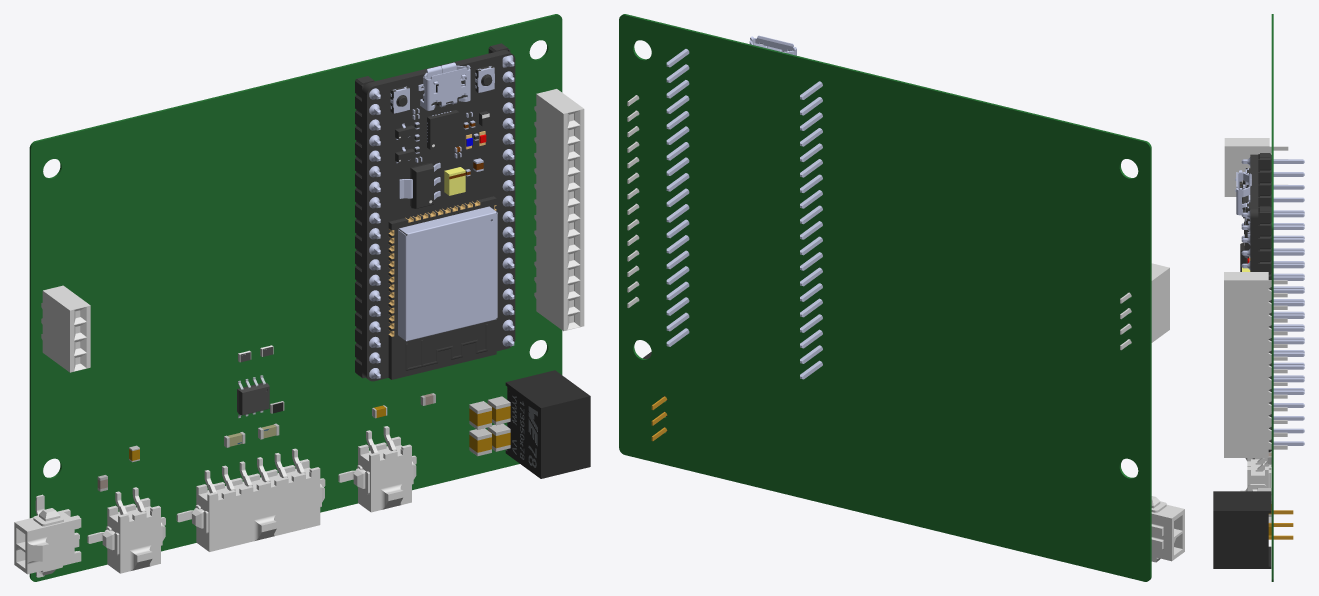
File: display.glb
The picture shows the model from 3 angles, left to right: view 1: azimuth 30°, elevation 25°; view 2: azimuth 150°, elevation 25°; view 3: azimuth 270°, elevation 25°; orthographic projection. The views are drawn at different scales.
Visible parts, largest first — view 1: =>[0:1:1:3], =>[0:1:1:33], =>[0:1:1:38], =>[0:1:1:31], =>[0:1:1:19] (×2), =>[0:1:1:46], =>[0:1:1:35], =>[0:1:1:40], =>[0:1:1:43]; view 2: =>[0:1:1:3], =>[0:1:1:33], =>[0:1:1:35], =>[0:1:1:40], =>[0:1:1:38]; view 3: =>[0:1:1:38], =>[0:1:1:33], =>[0:1:1:46], =>[0:1:1:3], =>[0:1:1:40], =>[0:1:1:19].
Boxes of the visible parts, x1,y1,x2,y2 form: =>[0:1:1:3]: (29,14,562,581); =>[0:1:1:33]: (355,43,515,381); =>[0:1:1:38]: (534,89,584,331); =>[0:1:1:31]: (176,448,325,551); =>[0:1:1:19] (×2): (87,426,416,573); =>[0:1:1:46]: (505,370,590,478); =>[0:1:1:35]: (14,494,81,577); =>[0:1:1:40]: (41,285,90,372); =>[0:1:1:43]: (237,383,269,415); =>[0:1:1:3]: (619,14,1151,581); =>[0:1:1:33]: (666,35,822,379); =>[0:1:1:35]: (1151,496,1184,562); =>[0:1:1:40]: (1120,263,1169,350); =>[0:1:1:38]: (627,95,639,307); =>[0:1:1:38]: (1224,272,1287,457); =>[0:1:1:33]: (1235,153,1304,452); =>[0:1:1:46]: (1213,491,1293,568); =>[0:1:1:3]: (1271,14,1273,581); =>[0:1:1:40]: (1224,138,1288,196); =>[0:1:1:19]: (1240,451,1271,491).
Bounding box in the file's own units: 0.0941 × 0.072 × 0.0166.
